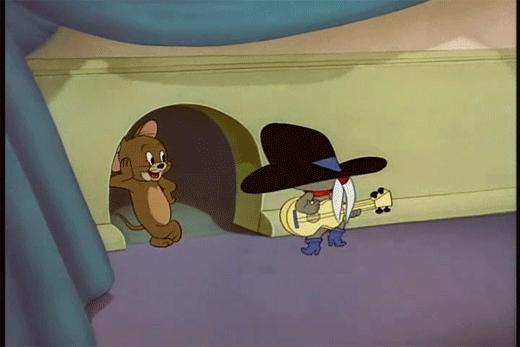jerry: (111, 117, 185, 249)
